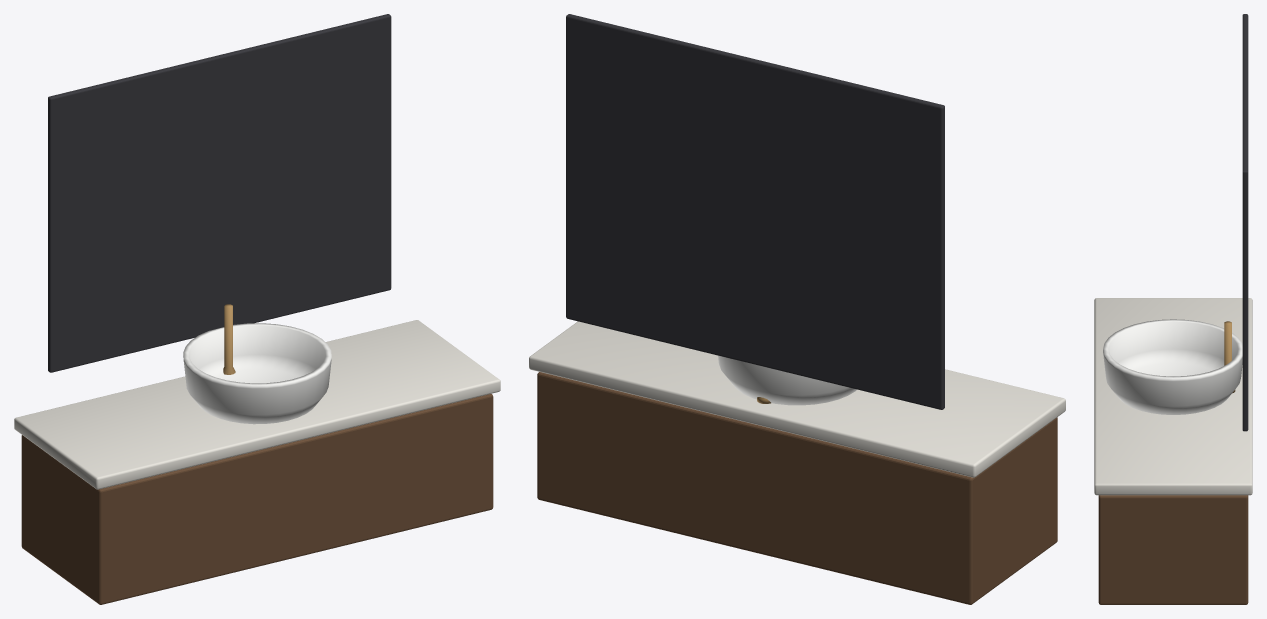
Rendered from vanity.glb.
3 renders of one model, left to right at view 1: azimuth 30°, elevation 25°; view 2: azimuth 150°, elevation 25°; view 3: azimuth 270°, elevation 25°, orthographic. The views are drawn at different scales.
Visible parts, largest first — view 1: vanity_mirror, vanity_body, vanity_top, vanity_basin, vanity_tap; view 2: vanity_mirror, vanity_body, vanity_top, vanity_basin; view 3: vanity_top, vanity_body, vanity_basin, vanity_mirror, vanity_tap.
Boxes of the visible parts, bbox=[...] form: vanity_mirror: bbox=[48, 14, 391, 372]; vanity_body: bbox=[21, 394, 493, 604]; vanity_top: bbox=[14, 320, 500, 489]; vanity_basin: bbox=[183, 323, 331, 424]; vanity_tap: bbox=[223, 304, 235, 374]; vanity_mirror: bbox=[566, 14, 944, 409]; vanity_body: bbox=[537, 372, 1057, 604]; vanity_top: bbox=[529, 321, 1065, 477]; vanity_basin: bbox=[718, 355, 856, 405]; vanity_top: bbox=[1094, 298, 1252, 495]; vanity_body: bbox=[1098, 495, 1248, 604]; vanity_basin: bbox=[1103, 319, 1242, 414]; vanity_mirror: bbox=[1242, 14, 1248, 431]; vanity_tap: bbox=[1224, 321, 1235, 393].
Size of the model in its own units: 1.54 by 1.62 by 0.55.
